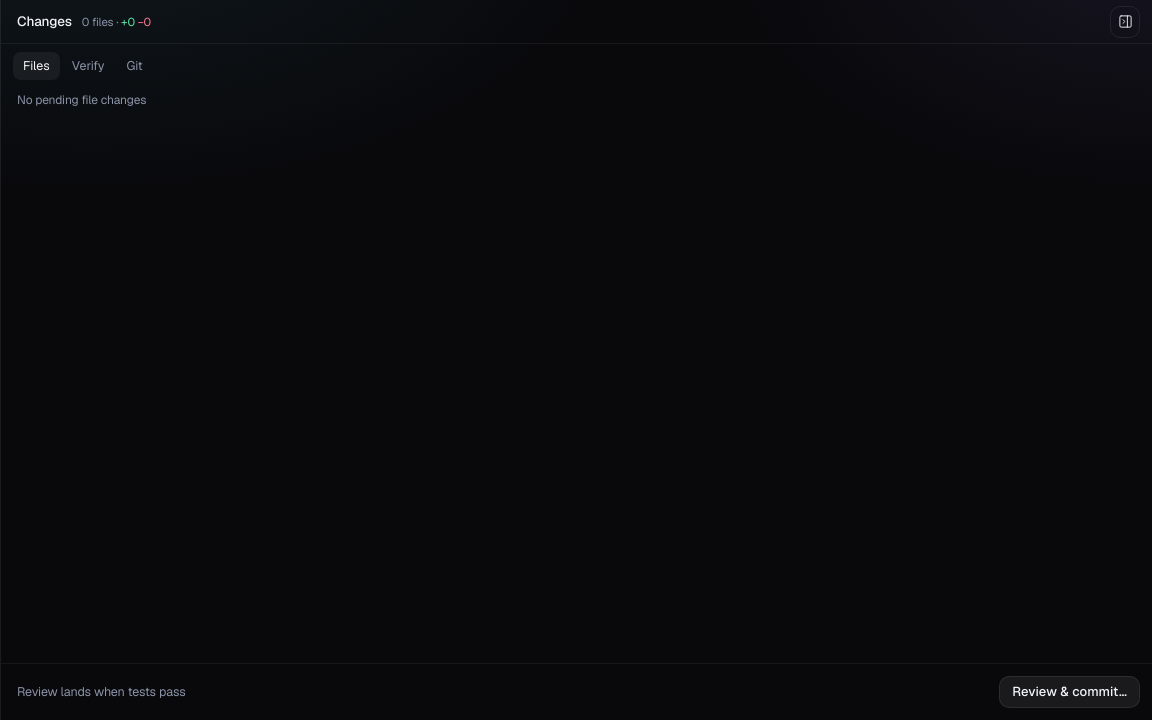
Test case: Git tab Status row unwraps JSON envelope stdout, not the raw JSON
Click the tab "Git" at (134, 66), box [116,52,153,80]
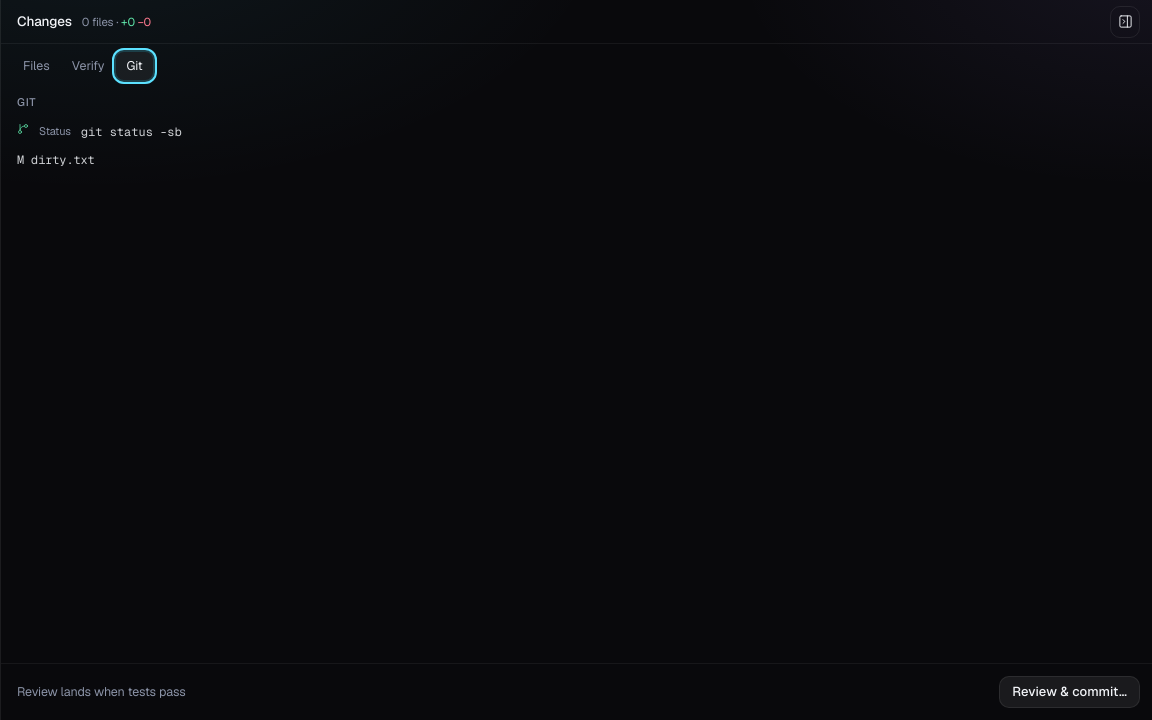
Expected: the text "M dirty.txt" is shown, [17,152,95,168]
